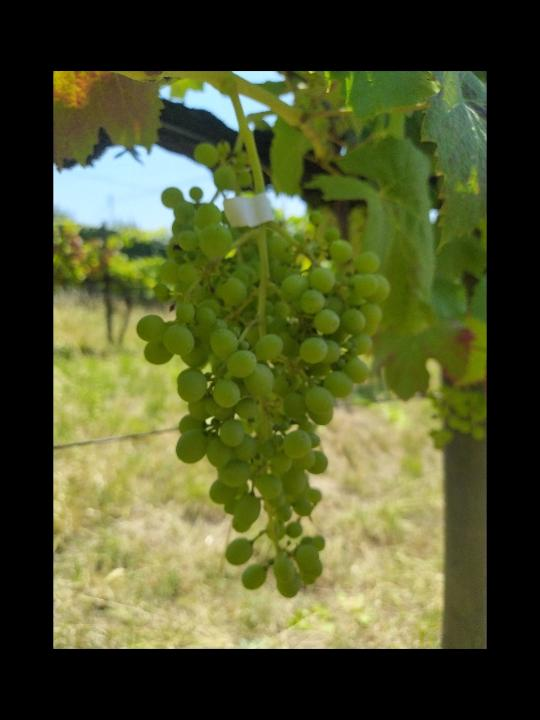grape: (134, 186, 394, 599)
